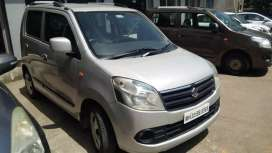license_plate: (180, 104, 214, 122)
